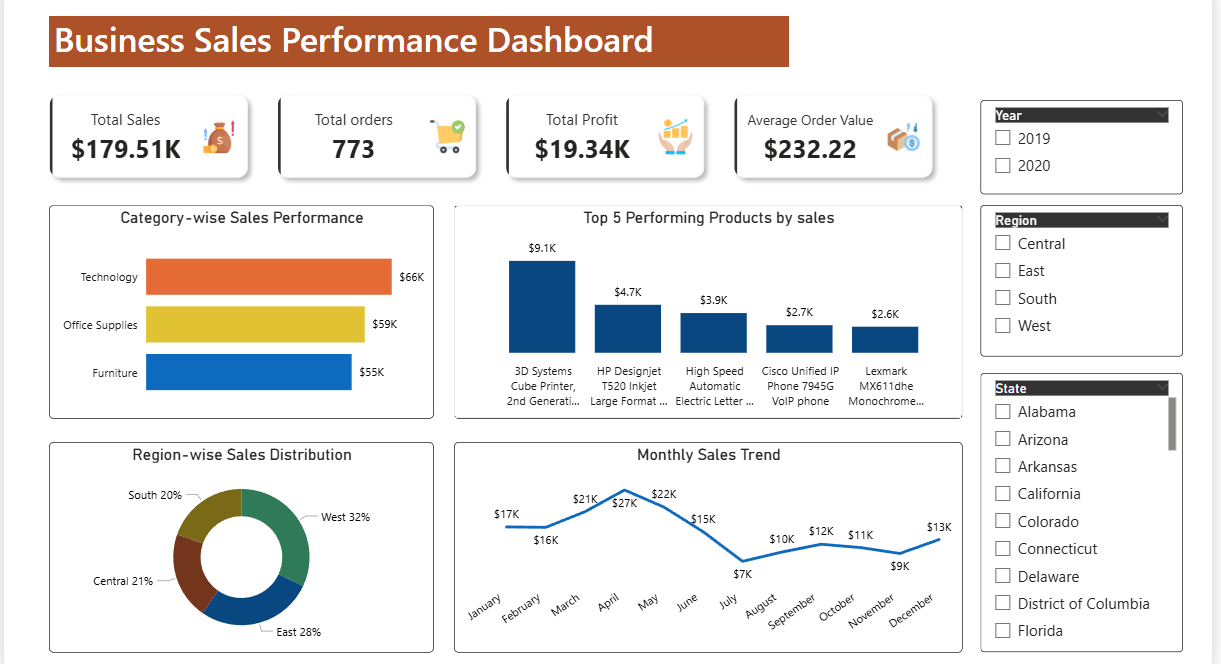

What the dashboard file says about the page in this screenshot:
{"tool":"powerbi","page":{"name":"Page 1","canvas":[1280,720],"ordinal":0},"visuals":[{"type":"barChart","title":"Category-wise Sales Performance","fields":{"Category":["Clean_sales data.Category"],"Y":["Sum(Clean_sales data.Sales)"]},"box":[47,228.3,408,226.7],"z":0},{"type":"columnChart","title":"Top 5 Performing Products by sales","fields":{"Y":["Sum(Clean_sales data.Sales)"],"Category":["Clean_sales data.Product Name"]},"box":[477.7,228.3,539.2,226.7],"z":1000},{"type":"lineChart","title":"Monthly Sales Trend","fields":{"Y":["Sum(Clean_sales data.Sales)"],"Category":["Clean_sales data.Order Date.Variation.Date Hierarchy.Month"]},"box":[477.7,480.9,539.2,223.5],"z":2000},{"type":"donutChart","title":"Region-wise Sales Distribution","fields":{"Category":["Clean_sales data.Region"],"Y":["Sum(Clean_sales data.Sales)"]},"box":[47,480.9,408,223.5],"z":3000},{"type":"textbox","title":"Business Sales Performance Dashboard","box":[47.7,28.6,784.2,54.1],"z":4000},{"type":"slicer","fields":{"Values":["Clean_sales data.Region"]},"box":[1035.5,229,214.7,160.7],"z":5000},{"type":"slicer","fields":{"Values":["Clean_sales data.Order Date.Variation.Date Hierarchy.Year"]},"box":[1035.5,117.7,214.7,100.2],"z":6000},{"type":"cardVisual","fields":{"Data":["Clean_sales data.Total Sales","Clean_sales data.Total orders","Clean_sales data.Total Profit","Clean_sales data.Average Order Value"]},"box":[19.1,82.7,997.3,146.3],"z":7000},{"type":"slicer","fields":{"Values":["Clean_sales data.State"]},"box":[1035.5,407.2,214.7,295.9],"z":8000}]}

Visuals, with their boxes in screenshot pixels (x1, y1, x2, y2):
"Category-wise Sales Performance" barChart: bbox(44, 203, 429, 417)
"Top 5 Performing Products by sales" columnChart: bbox(451, 203, 960, 417)
"Monthly Sales Trend" lineChart: bbox(451, 441, 960, 652)
"Region-wise Sales Distribution" donutChart: bbox(44, 441, 429, 652)
"Business Sales Performance Dashboard" textbox: bbox(45, 14, 785, 65)
slicer - Clean_sales data.Region: bbox(977, 203, 1180, 355)
slicer - Clean_sales data.Order Date.Variation.Date Hierarchy.Year: bbox(977, 98, 1180, 193)
cardVisual - Clean_sales data.Total Sales x Clean_sales data.Total orders: bbox(18, 65, 959, 203)
slicer - Clean_sales data.State: bbox(977, 372, 1180, 651)
